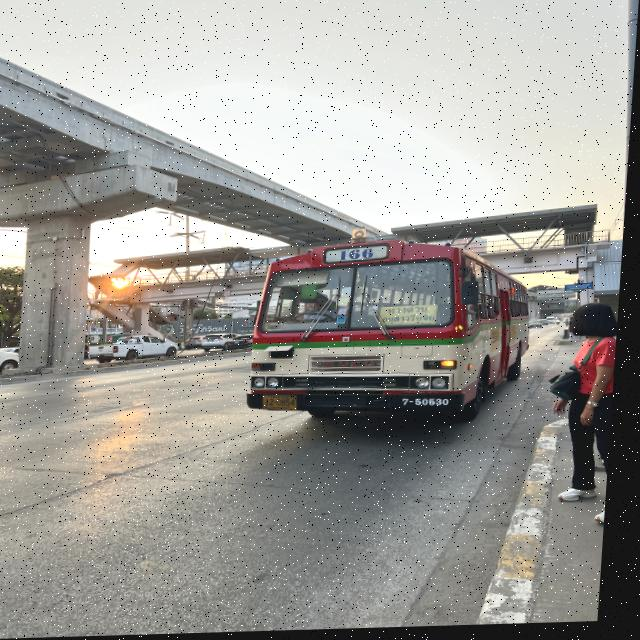BMTA-bus: (250, 235, 540, 432)
Bus-Line-Number: (333, 248, 386, 267)
Destination-Sign-Normal-Expressway: (383, 308, 446, 330)
